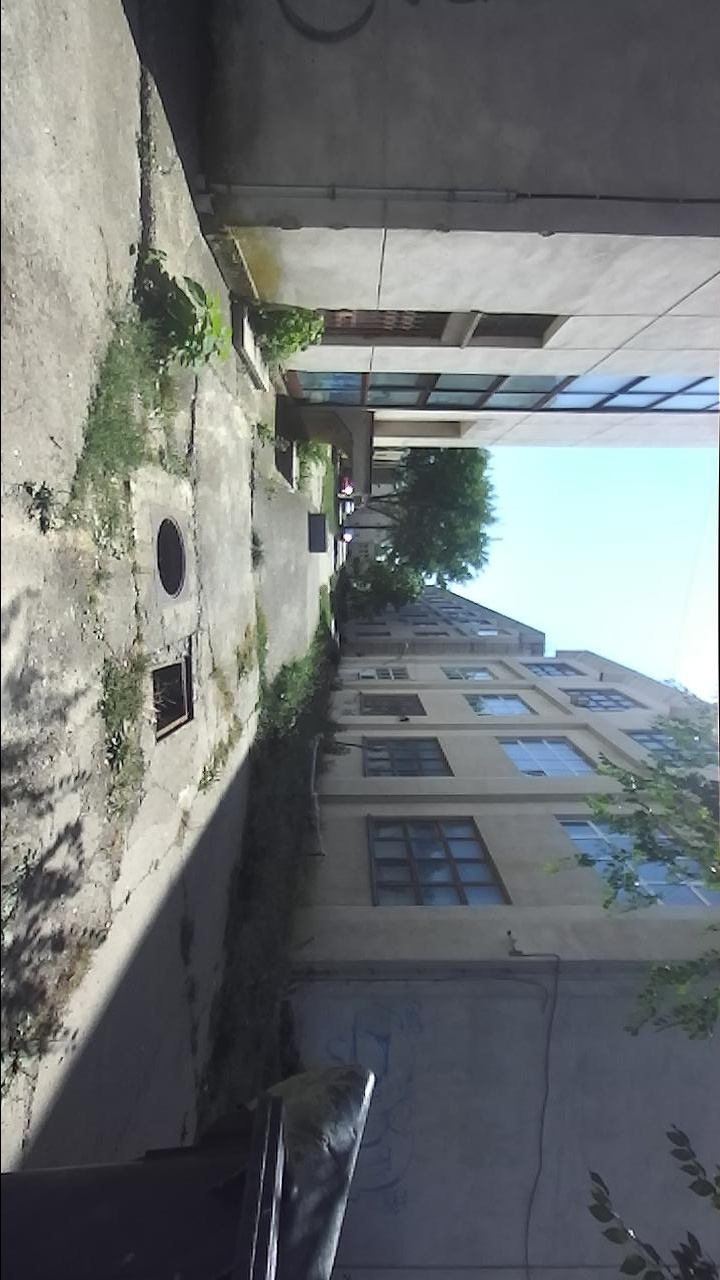drain: (147, 649, 197, 748), (152, 510, 192, 606)
